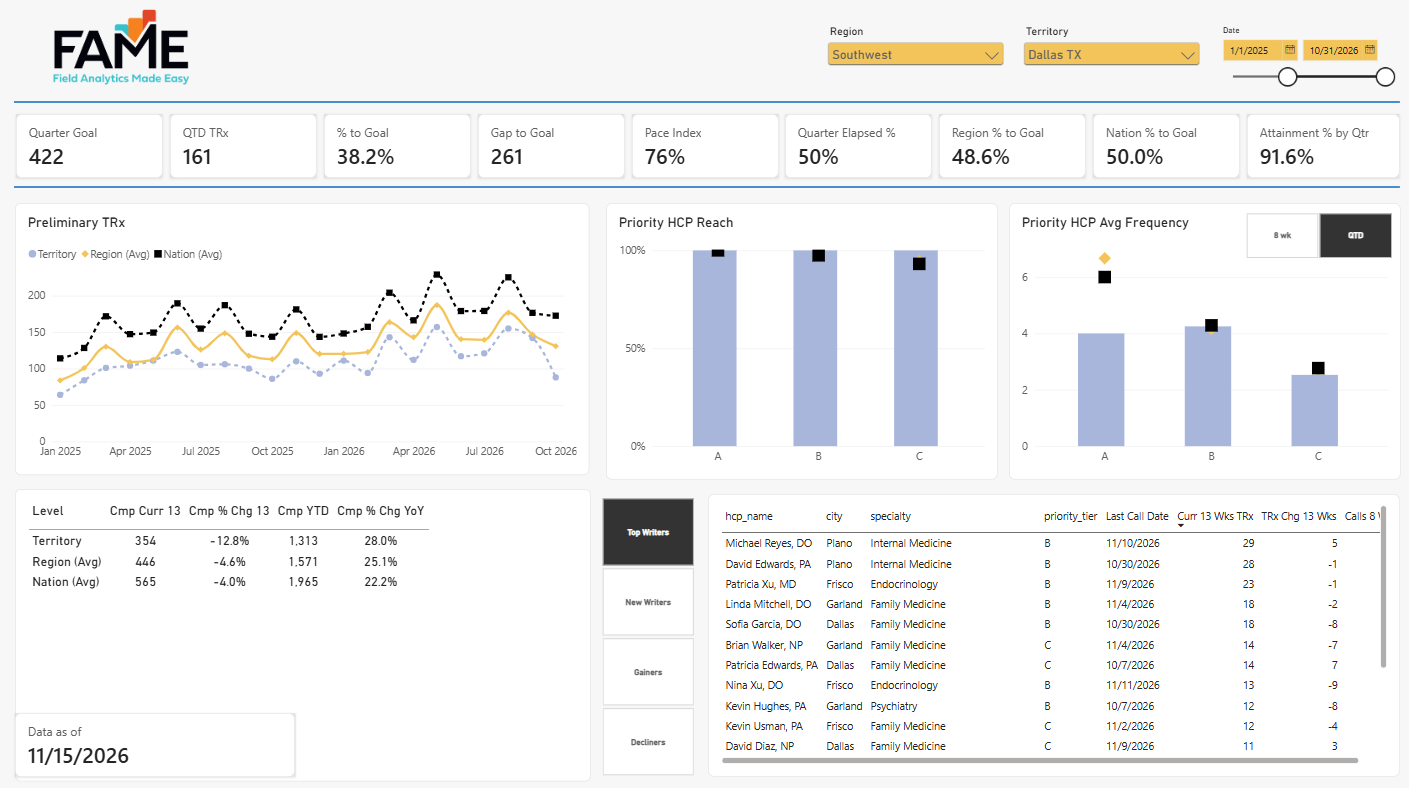

What the dashboard file says about the page in this screenshot:
{"tool":"powerbi","page":{"name":"Sales","canvas":[1920,1080],"ordinal":0},"visuals":[{"type":"slicer","title":"Region","fields":{"Values":["dim_territory.region_name"]},"box":[1375.3,53.2,243.8,85.1],"z":0,"group":"g4"},{"type":"cardVisual","title":"Latest Week","fields":{"Data":["fact_trx_weekly.Quarter Goal"]},"box":[39.9,154.3,220.6,85.1],"z":0,"group":"g3"},{"type":"group","id":"g1","title":"Group 1","box":[38.6,267.3,766.1,786.1],"z":0},{"type":"lineClusteredColumnComboChart","title":"Priority HCP Reach","fields":{"Category":["dim_hcp.priority_tier"],"Y":["fact_trx_weekly.Reach %"],"Y2":["fact_trx_weekly.Region Reach %","fact_trx_weekly.Nation Reach %"]},"box":[824.6,275.3,520.6,368.4],"z":0,"group":"g2"},{"type":"tableEx","title":"TRx Table","fields":{"Values":["Comparison Level.Level","fact_trx_weekly.Cmp Curr 13","fact_trx_weekly.Cmp % Chg 13","fact_trx_weekly.Cmp YTD","fact_trx_weekly.Cmp % Chg YoY"]},"box":[39.2,656,765.5,397.4],"z":0,"group":"g1"},{"type":"slicer","title":"Territory","fields":{"Values":["dim_territory.territory_name"]},"box":[1636.4,53.2,243.8,85.1],"z":1000,"group":"g4"},{"type":"cardVisual","title":"Latest Week","fields":{"Data":["fact_trx_weekly.Pace Index"]},"box":[965.7,154.3,220.6,85.1],"z":1000,"group":"g3"},{"type":"lineChart","title":"Preliminary TRx","fields":{"Category":["dim_date.month_start_date"],"Y":["fact_trx_weekly.Total TRx","fact_trx_weekly.Region Avg TRx","fact_trx_weekly.Nation Avg TRx"]},"box":[38.6,267.3,764.2,369.8],"z":1000,"group":"g1"},{"type":"slicer","title":"Date","fields":{"Values":["dim_date.date_key"]},"box":[450.9,275.3,343.2,85.1],"z":1000},{"type":"lineClusteredColumnComboChart","title":"Priority HCP Avg Frequency","fields":{"Category":["dim_hcp.priority_tier"],"Y":["fact_trx_weekly.Avg Frequency"],"Y2":["fact_trx_weekly.Region Avg Frequency","fact_trx_weekly.Nation Avg Frequency"]},"box":[1360,275.3,520.6,368.4],"z":1000,"group":"g2"},{"type":"cardVisual","title":"Current 13 Wks","fields":{"Data":["fact_trx_weekly.QTD TRx"]},"box":[271.4,154.3,220.6,85.1],"z":2000,"group":"g3"},{"type":"group","id":"g2","title":"Group 2","box":[824.6,275.3,1056.1,368.4],"z":2000},{"type":"cardVisual","title":"Current 13 Wks","fields":{"Data":["fact_trx_weekly.Gap to Goal"]},"box":[734.3,154.3,220.6,85.1],"z":3000,"group":"g3"},{"type":"cardVisual","title":"Latest Week","fields":{"Data":["fact_trx_weekly.Latest Week"]},"box":[49.2,961.6,372.7,85.1],"z":3000},{"type":"cardVisual","title":"Current 13 Wks","fields":{"Data":["fact_trx_weekly.Region % to Goal"]},"box":[1428.6,154.3,220.6,85.1],"z":4000,"group":"g3"},{"type":"slicer","fields":{"Values":["Reach Window.Window"]},"box":[1636,286,232.8,62.5],"z":4000},{"type":"cardVisual","title":"Current 13 Wks","fields":{"Data":["fact_trx_weekly.Nation % to Goal"]},"box":[1660.1,154.3,220.6,85.1],"z":5000,"group":"g3"},{"type":"tableEx","fields":{"Values":["dim_hcp.hcp_name","dim_hcp.city","dim_hcp.specialty","dim_hcp.priority_tier","fact_trx_weekly.Last Call Date","fact_trx_weekly.Curr 13 Wks TRx","fact_trx_weekly.TRx Chg 13 Wks","fact_trx_weekly.Calls 8 Wks"]},"box":[960.3,655.7,920.4,391],"z":5000},{"type":"image","box":[37.2,7.7,287.3,113.1],"z":6000},{"type":"cardVisual","title":"Current 13 Wks","fields":{"Data":["fact_trx_weekly.% to Goal"]},"box":[502.8,154.3,220.6,85.1],"z":6000,"group":"g3"},{"type":"cardVisual","title":"Current 13 Wks","fields":{"Data":["fact_trx_weekly.Quarter Elapsed %"]},"box":[1197.2,154.3,220.6,85.1],"z":7000,"group":"g3"},{"type":"slicer","fields":{"Values":["Writer View.View"]},"box":[799.4,674.3,160.9,372.4],"z":7000},{"type":"shape","box":[37.2,131.4,1843.4,13.3],"z":8000},{"type":"shape","box":[37.2,244.4,1843.4,13.3],"z":9000},{"type":"group","id":"g3","title":"Group 3","box":[39.9,154.3,1840.8,85.1],"z":10000},{"type":"group","id":"g4","title":"Group 4","box":[1375.3,53.2,505.4,85.1],"z":11000}]}

Visuals, with their boxes in screenshot pixels (x1, y1, x2, y2), scaled from the page's 1920x1080 canvas onto the 1409x788 screenshot:
"Region" slicer: 1009:39:1188:101
"Latest Week" cardVisual: 29:113:191:175
"Group 1" group: 28:195:591:769
"Priority HCP Reach" lineClusteredColumnComboChart: 605:201:987:470
"TRx Table" tableEx: 29:479:591:769
"Territory" slicer: 1201:39:1380:101
"Latest Week" cardVisual: 709:113:871:175
"Preliminary TRx" lineChart: 28:195:589:465
"Date" slicer: 331:201:583:263
"Priority HCP Avg Frequency" lineClusteredColumnComboChart: 998:201:1380:470
"Current 13 Wks" cardVisual: 199:113:361:175
"Group 2" group: 605:201:1380:470
"Current 13 Wks" cardVisual: 539:113:701:175
"Latest Week" cardVisual: 36:702:310:764
"Current 13 Wks" cardVisual: 1048:113:1210:175
slicer - Reach Window.Window: 1201:209:1371:254
"Current 13 Wks" cardVisual: 1218:113:1380:175
tableEx - dim_hcp.hcp_name x dim_hcp.city: 705:478:1380:764
image: 27:6:238:88
"Current 13 Wks" cardVisual: 369:113:531:175
"Current 13 Wks" cardVisual: 879:113:1040:175
slicer - Writer View.View: 587:492:705:764
shape: 27:96:1380:106
shape: 27:178:1380:188
"Group 3" group: 29:113:1380:175
"Group 4" group: 1009:39:1380:101
